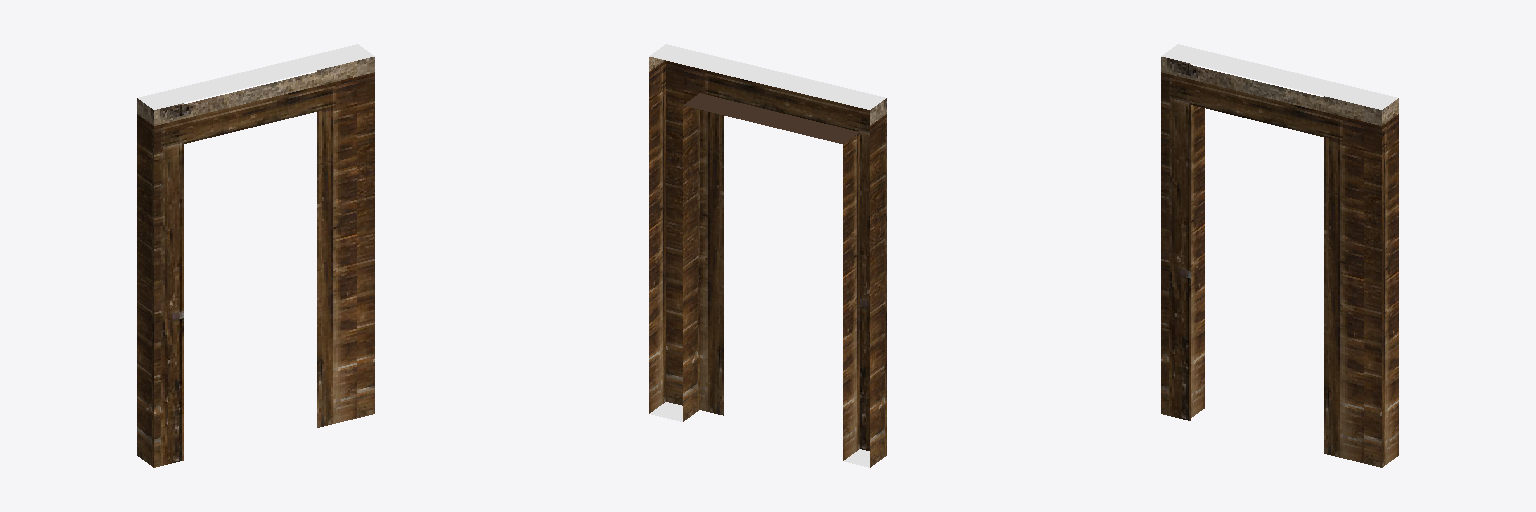
The picture shows the model from 3 angles: view 1: azimuth 30°, elevation 25°; view 2: azimuth 150°, elevation 25°; view 3: azimuth 330°, elevation 25°; orthographic projection.
Parts seen in each view (by area): view 1: Mesh1 Model; view 2: Mesh1 Model; view 3: Mesh1 Model.
Part boxes in pixels (bbox=[...]): Mesh1 Model: bbox=[137, 44, 374, 467]; Mesh1 Model: bbox=[649, 44, 886, 467]; Mesh1 Model: bbox=[1161, 44, 1398, 467].
Bounding box in the file's own units: 89.73 × 139 × 11.88.
Materials: 3 (1 with a texture image).